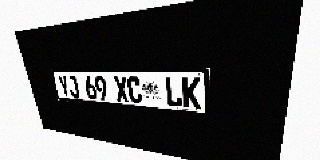6: (83, 76, 98, 100)
9: (94, 76, 109, 101)
C: (126, 76, 143, 104)
J: (66, 76, 80, 98)
K: (182, 77, 200, 109)
L: (164, 77, 182, 107)
X: (113, 76, 129, 102)
Y: (57, 76, 71, 97)
